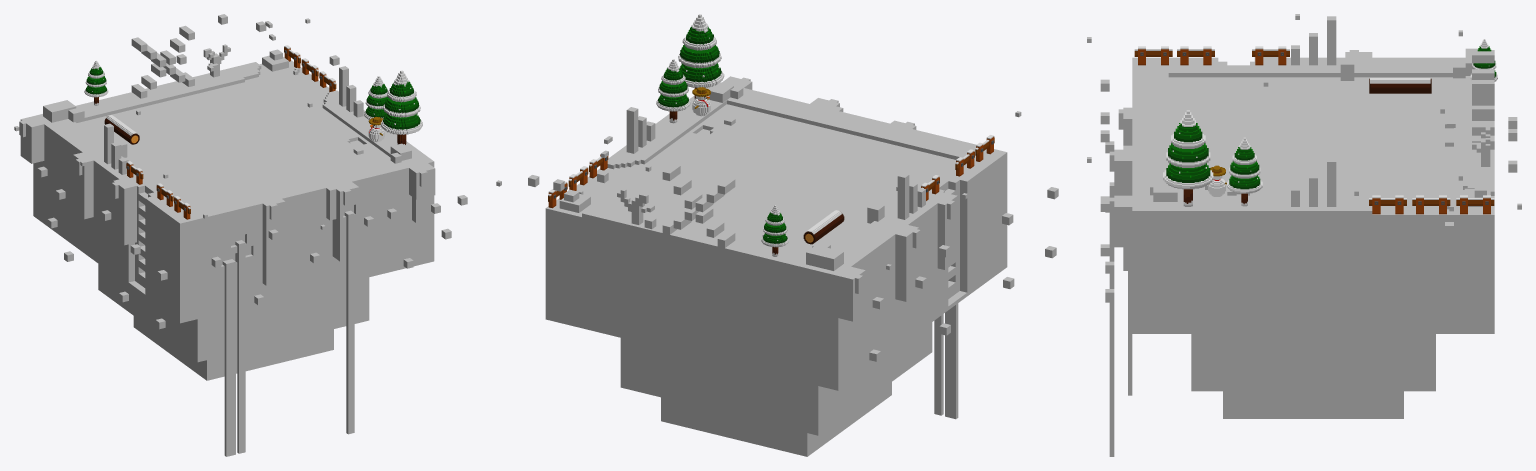
The model's file is Map_Ice.fbx.
3 renders of one model, left to right at view 1: azimuth 30°, elevation 25°; view 2: azimuth 150°, elevation 25°; view 3: azimuth 270°, elevation 25°, orthographic. The views are drawn at different scales.
Parts seen in each view (by area): view 1: Map_ice_3, Map_ice_tree_001, Map_ice_tree, Map_ice_tree_002, Map_ice_rock, Map_ice_tree_down; view 2: Map_ice_3, Map_ice_tree_001, Map_ice_tree, Map_ice_tree_002, Map_ice_rock, Map_ice_tree_down; view 3: Map_ice_3, Map_ice_tree_001, Map_ice_tree, Map_ice_tree_down, Map_ice_fence_002, Map_ice_fence_004, Map_ice_fence_005, Map_ice_fence, Map_ice_fence_001, Map_ice_fence_003, Map_ice_snowman.
Part boxes in pixels (box(x1,y1,x2,y2)): Map_ice_3: box(14, 14, 467, 456); Map_ice_tree_001: box(380, 70, 422, 145); Map_ice_tree: box(364, 76, 388, 119); Map_ice_tree_002: box(84, 60, 108, 105); Map_ice_rock: box(43, 100, 76, 122); Map_ice_tree_down: box(104, 115, 139, 144); Map_ice_3: box(496, 76, 1058, 456); Map_ice_tree_001: box(678, 14, 724, 99); Map_ice_tree: box(656, 59, 690, 123); Map_ice_tree_002: box(761, 205, 788, 256); Map_ice_rock: box(806, 245, 843, 270); Map_ice_tree_down: box(803, 210, 844, 244); Map_ice_3: box(1087, 14, 1521, 456); Map_ice_tree_001: box(1163, 110, 1213, 206); Map_ice_tree: box(1227, 137, 1262, 206); Map_ice_tree_down: box(1369, 78, 1431, 93); Map_ice_fence_002: box(1369, 195, 1406, 214); Map_ice_fence_004: box(1177, 46, 1214, 65); Map_ice_fence_005: box(1252, 46, 1289, 65); Map_ice_fence: box(1456, 195, 1494, 214); Map_ice_fence_001: box(1412, 195, 1450, 214); Map_ice_fence_003: box(1134, 46, 1172, 65); Map_ice_snowman: box(1208, 165, 1226, 196).
Bounding box in the file's own units: 100 × 95.92 × 96.
